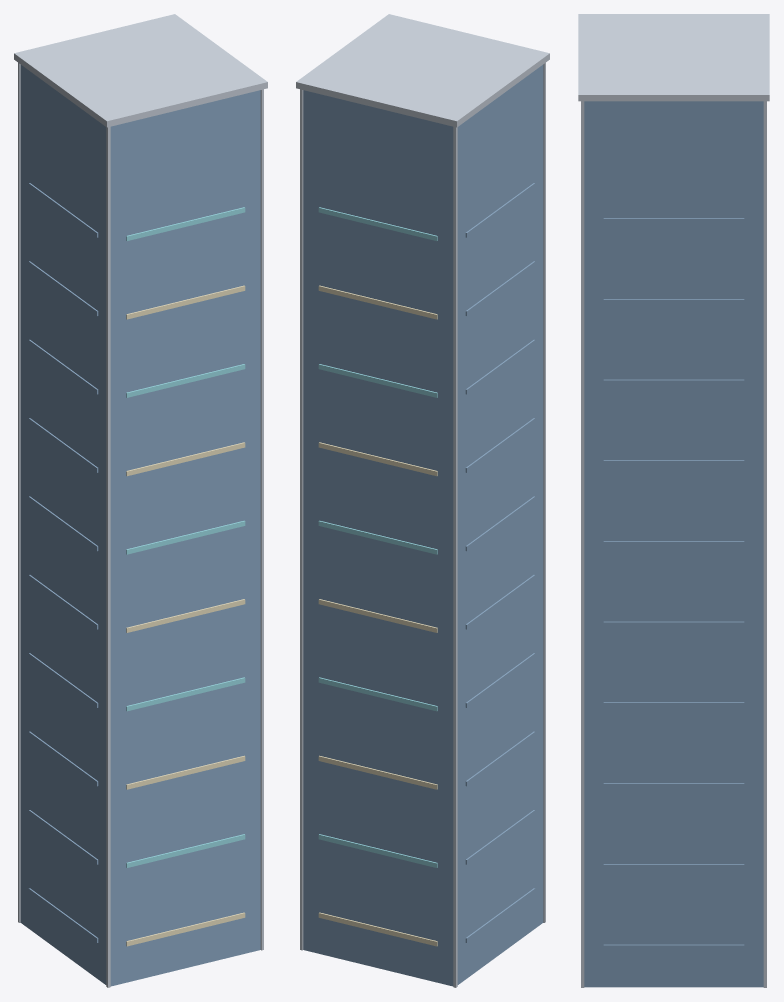
File: rascacielos_alto.glb
3 renders of one model, left to right at view 1: azimuth 30°, elevation 25°; view 2: azimuth 150°, elevation 25°; view 3: azimuth 270°, elevation 25°, orthographic. The views are drawn at different scales.
Parts seen in each view (by area): view 1: rascacielos_alto; view 2: rascacielos_alto; view 3: rascacielos_alto.
Boxes of the visible parts, left/top/right/bottom form: rascacielos_alto: left=14, top=14, right=267, bottom=987; rascacielos_alto: left=296, top=14, right=549, bottom=987; rascacielos_alto: left=578, top=14, right=769, bottom=987.
Size of the model in its own units: 4.3 by 22.16 by 4.3.
